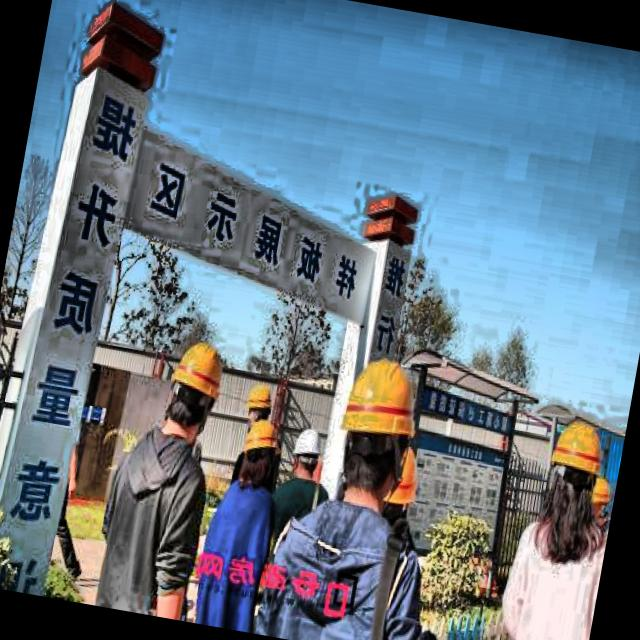helmet: (326, 347, 426, 510), (158, 328, 231, 444), (544, 416, 608, 518), (232, 412, 286, 490), (286, 422, 324, 484), (240, 378, 276, 428)
